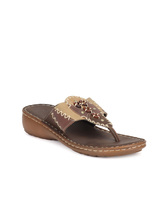shoes: (19, 93, 150, 157)
